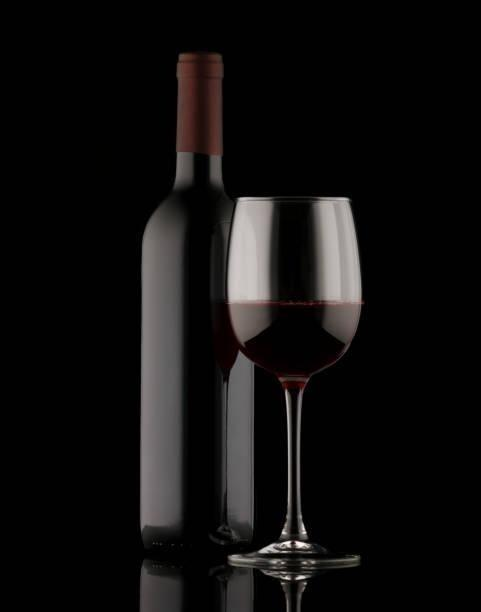bottle-glass: (135, 47, 268, 556)
glass-wine: (219, 193, 364, 572)
